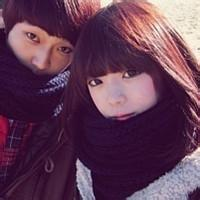NONE: (86, 66, 165, 131)
WRONG: (10, 26, 75, 91)
